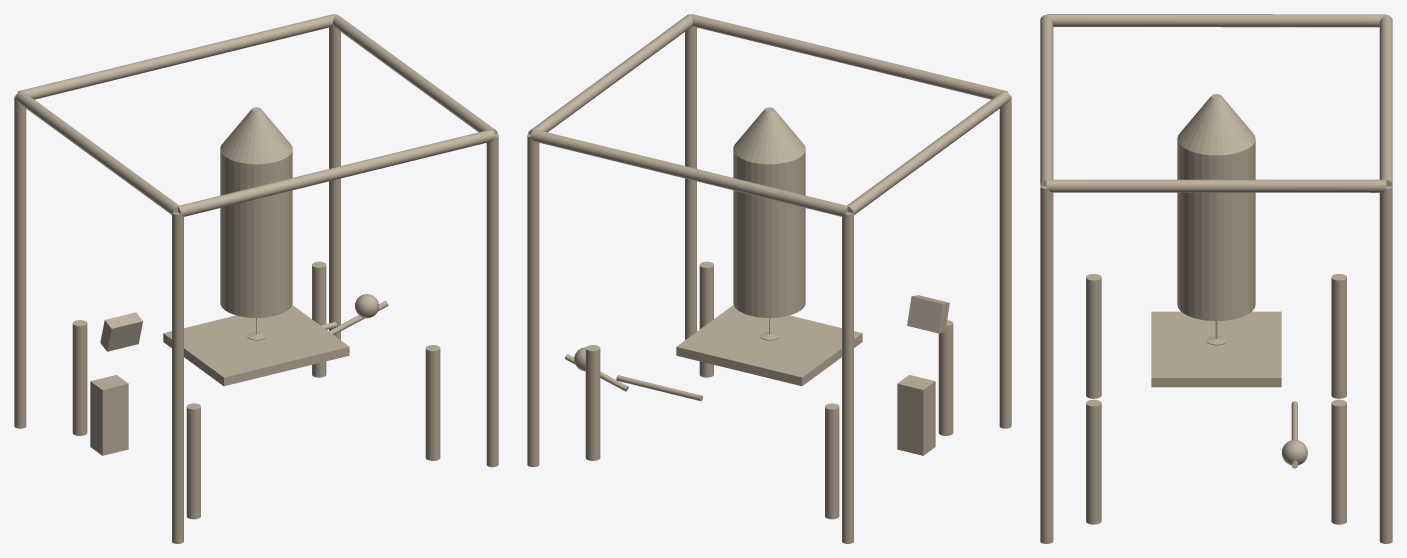
File: 3dcodebench_Wineglass_seed0_L6_Q0__haiku45.glb
3 renders of one model, left to right at view 1: azimuth 30°, elevation 25°; view 2: azimuth 150°, elevation 25°; view 3: azimuth 270°, elevation 25°, orthographic. The views are drawn at different scales.
Visible parts, largest first — view 1: object; view 2: object; view 3: object.
Part boxes in pixels (x1,y1,x2,y2): object: (14, 14, 498, 543); object: (527, 14, 1011, 543); object: (1040, 14, 1392, 543).
Size of the model in its own units: 1.57 by 1.53 by 1.35.
